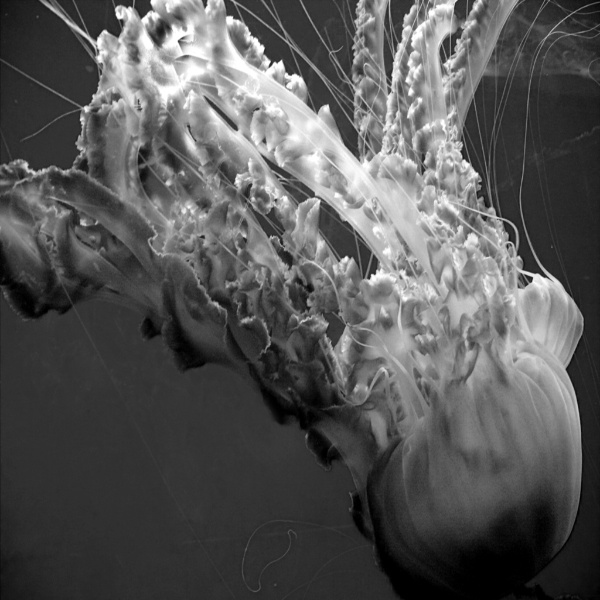Jellyfish: (11, 0, 600, 600)
